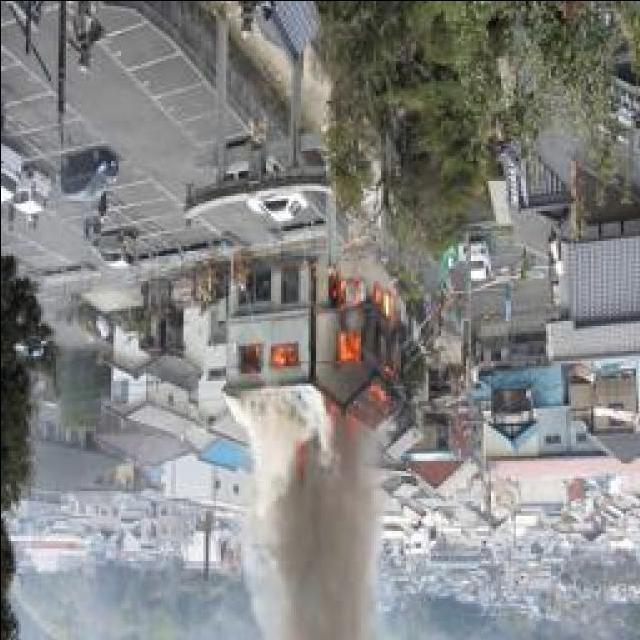Fire: (328, 285, 401, 398), (266, 332, 301, 365)
